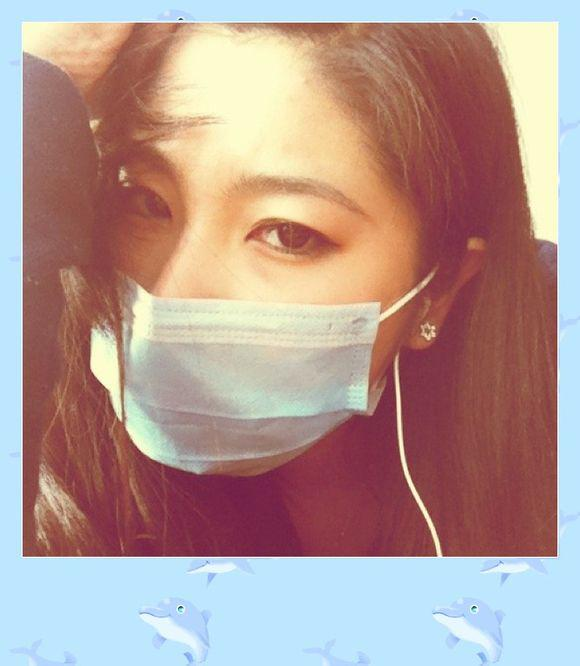WRONG: (71, 126, 416, 471)
